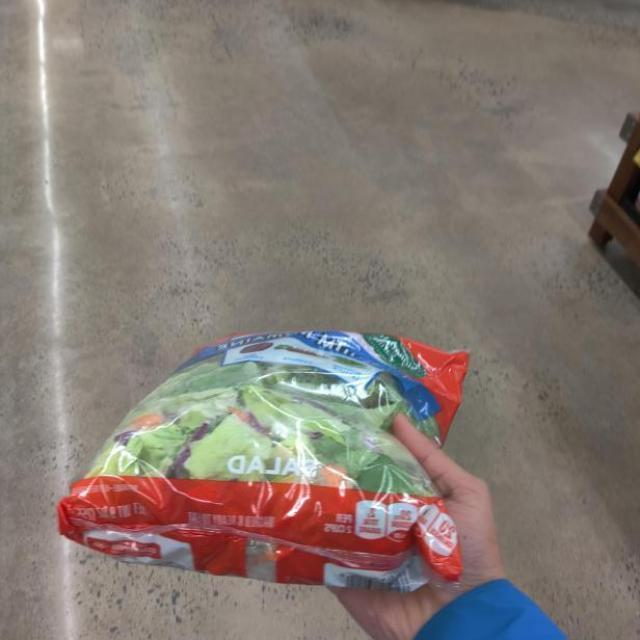Salad: (38, 312, 501, 604)
